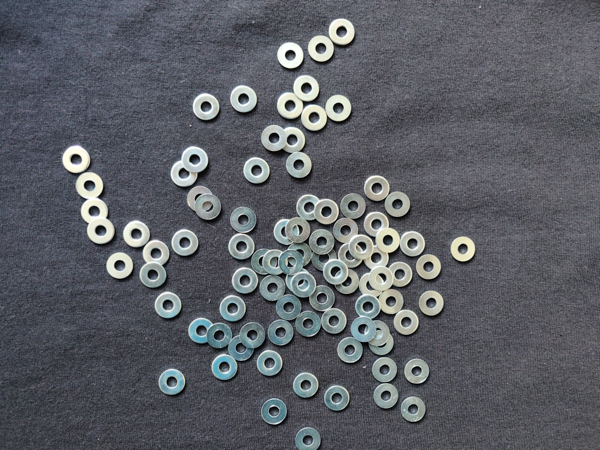circle: (326, 18, 358, 50), (322, 93, 355, 123), (385, 188, 413, 220), (61, 144, 91, 173), (122, 219, 152, 248), (309, 34, 336, 65), (324, 383, 351, 414), (157, 369, 186, 397), (155, 293, 183, 322), (80, 198, 110, 225), (75, 172, 105, 199), (302, 103, 329, 133), (107, 252, 135, 280), (400, 396, 428, 424), (143, 239, 170, 268), (171, 159, 198, 188), (278, 41, 305, 70), (322, 306, 348, 336), (88, 218, 115, 246), (141, 262, 168, 290), (172, 230, 200, 257), (193, 94, 220, 122), (231, 268, 259, 295), (230, 86, 257, 114), (276, 293, 304, 320), (374, 383, 401, 411), (264, 247, 290, 276), (451, 234, 476, 264), (211, 355, 238, 382), (231, 206, 258, 233), (261, 125, 288, 152), (338, 337, 365, 364), (182, 147, 210, 173), (228, 234, 256, 260), (278, 92, 304, 120), (273, 218, 299, 246), (324, 258, 350, 286), (364, 176, 392, 202), (393, 308, 419, 336), (368, 330, 396, 356), (262, 398, 288, 426), (195, 194, 222, 220), (187, 186, 213, 213), (286, 152, 312, 179), (251, 247, 277, 274), (400, 231, 426, 258), (417, 253, 443, 280), (364, 245, 391, 271), (359, 271, 385, 298), (365, 320, 391, 347), (404, 358, 430, 385), (258, 350, 284, 377), (335, 268, 360, 296), (420, 290, 445, 318), (207, 323, 233, 349), (229, 335, 255, 361), (220, 297, 246, 323), (243, 159, 269, 185), (333, 218, 359, 244), (293, 373, 319, 399), (294, 75, 319, 102), (279, 249, 304, 276), (297, 194, 322, 221), (309, 286, 334, 313), (365, 211, 390, 238), (188, 318, 214, 343), (259, 277, 284, 303), (268, 320, 293, 346), (287, 217, 312, 243), (310, 229, 336, 254), (296, 312, 321, 338), (339, 244, 364, 270), (388, 262, 414, 287), (355, 295, 381, 320), (373, 358, 398, 384), (283, 127, 307, 154), (288, 242, 312, 269), (315, 198, 339, 225), (342, 193, 366, 220), (295, 427, 323, 450), (241, 323, 266, 348), (312, 247, 338, 271), (349, 235, 373, 261), (377, 227, 401, 253), (370, 266, 394, 292), (379, 290, 405, 314), (351, 318, 377, 342), (286, 268, 311, 292), (292, 273, 316, 298)
